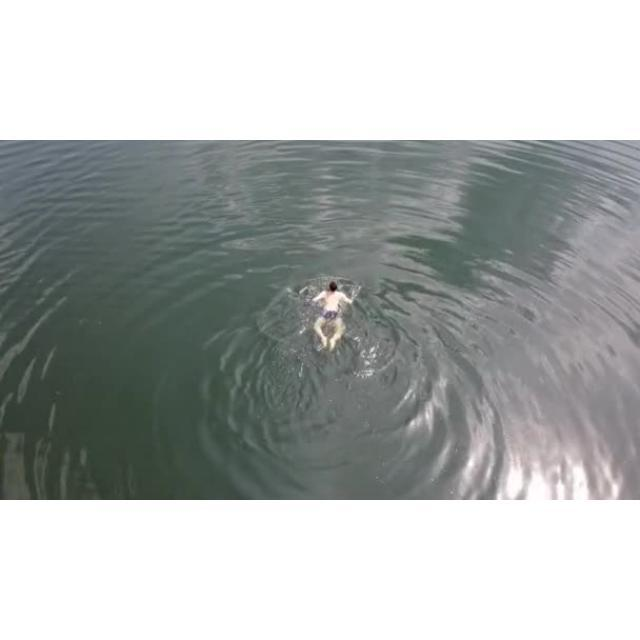human: (310, 279, 360, 352)
